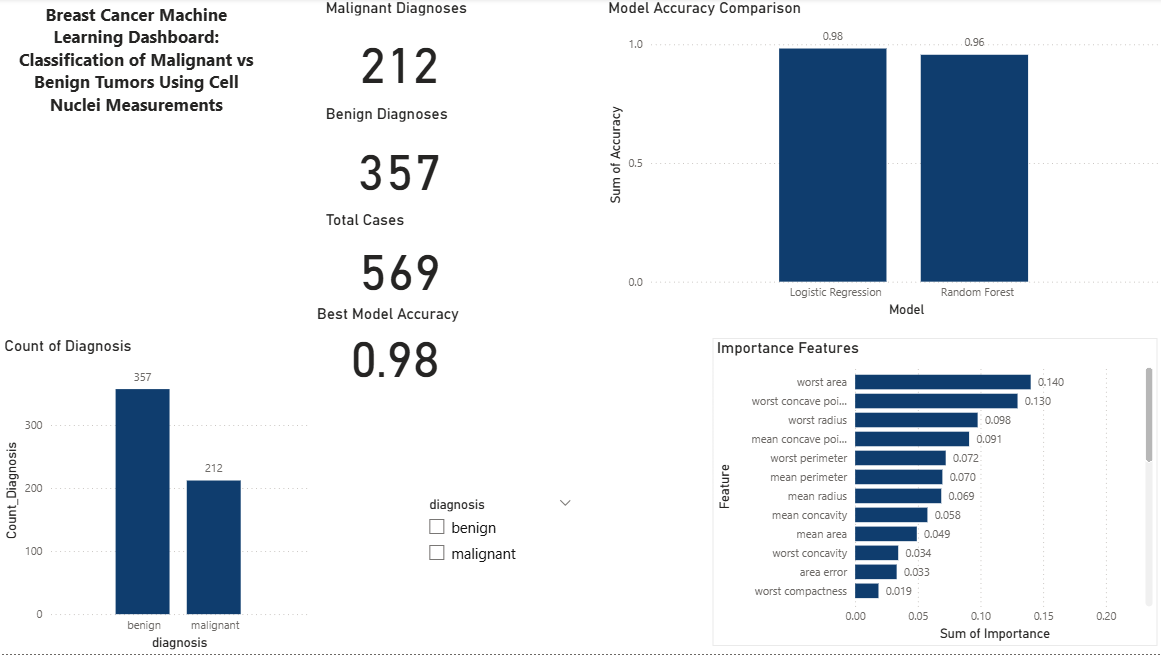

This screenshot's page, from the dashboard's own definition file:
{"tool":"powerbi","page":{"name":"ML Project: Breast Cancer Classification","canvas":[1280,720],"ordinal":0},"visuals":[{"type":"textbox","box":[10,0,280,280],"z":0},{"type":"clusteredColumnChart","title":"Count of Diagnosis","fields":{"Category":["breast_cancer_classification.diagnosis"],"Y":["breast_cancer_classification.Measure"]},"box":[0,371.9,343.1,348.5],"z":1},{"type":"columnChart","title":"Model Accuracy Comparison","fields":{"Category":["model_results.Model"],"Y":["Sum(model_results.Accuracy)"]},"box":[662.8,0,617.5,355.4],"z":2},{"type":"barChart","title":"Importance Features","fields":{"Category":["feature_importance.Feature"],"Y":["Sum(feature_importance.Importance)"]},"box":[782.2,373.2,488.5,337.6],"z":3},{"type":"card","title":"Malignant Diagnoses","fields":{"Values":["breast_cancer_classification.Count_Diagnosis"]},"box":[352.7,0,171.5,116.6],"z":5},{"type":"card","title":"Benign Diagnoses","fields":{"Values":["breast_cancer_classification.Count_Diagnosis"]},"box":[352.7,116.6,171.5,116.6],"z":6},{"type":"card","title":"Total Cases","fields":{"Values":["breast_cancer_classification.Count_Diagnosis"]},"box":[352.7,233.3,171.5,102.9],"z":7},{"type":"card","title":"Best Model Accuracy","fields":{"Values":["Max(model_results.Accuracy)"]},"box":[343.1,336.2,181.1,89.2],"z":8},{"type":"slicer","fields":{"Values":["breast_cancer_classification.diagnosis"]},"box":[458.3,542,181.1,102.9],"z":9}]}

Visuals, with their boxes in screenshot pixels (x1, y1, x2, y2), scaled from the page's 1280x720 canvas onto the 1161x655 screenshot:
textbox: left=9, top=0, right=263, bottom=255
"Count of Diagnosis" clusteredColumnChart: left=0, top=338, right=311, bottom=654
"Model Accuracy Comparison" columnChart: left=601, top=0, right=1160, bottom=323
"Importance Features" barChart: left=709, top=340, right=1153, bottom=647
"Malignant Diagnoses" card: left=320, top=0, right=475, bottom=106
"Benign Diagnoses" card: left=320, top=106, right=475, bottom=212
"Total Cases" card: left=320, top=212, right=475, bottom=306
"Best Model Accuracy" card: left=311, top=306, right=475, bottom=387
slicer - breast_cancer_classification.diagnosis: left=416, top=493, right=580, bottom=587
